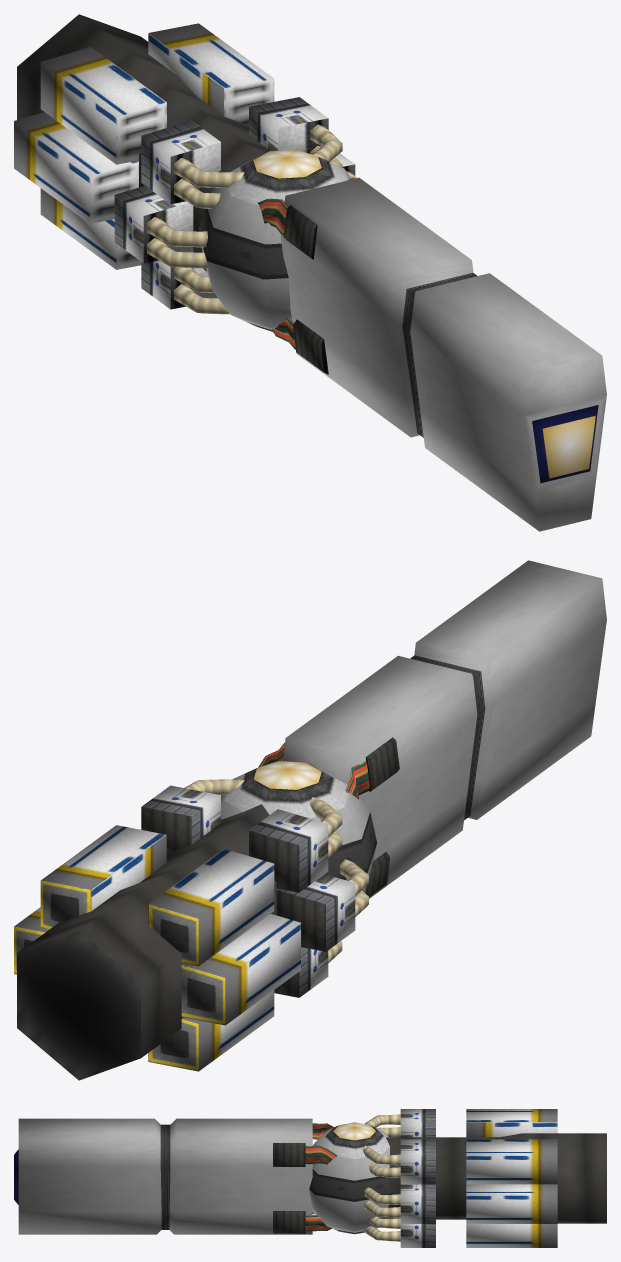
Rendered from HawkMotherShip.fbx.
3 views of the same model, one above another, from view 1: azimuth 30°, elevation 25°; view 2: azimuth 150°, elevation 25°; view 3: azimuth 270°, elevation 25° (orthographic). The views are drawn at different scales.
Parts seen in each view (by area): view 1: Mothership; view 2: Mothership; view 3: Mothership.
Boxes of the visible parts, x1,y1,x2,y2 form: Mothership: (14,14,606,531); Mothership: (14,560,606,1080); Mothership: (14,1109,606,1247).
Bounding box in the file's own units: 19256 × 14603 × 77290.
